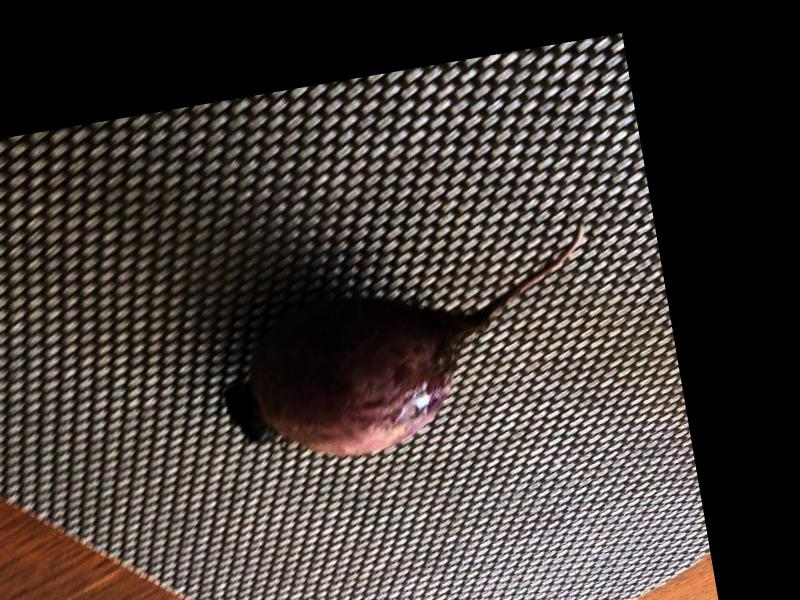Beet: (204, 222, 616, 475)
